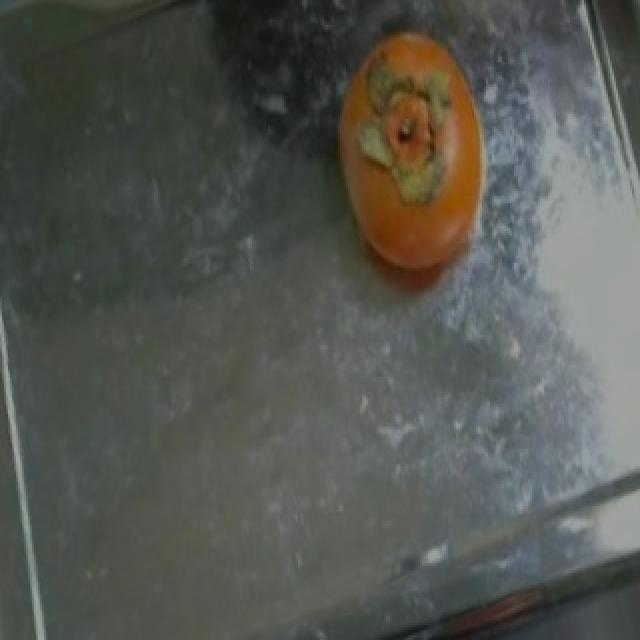Fruit: (308, 2, 508, 318)
